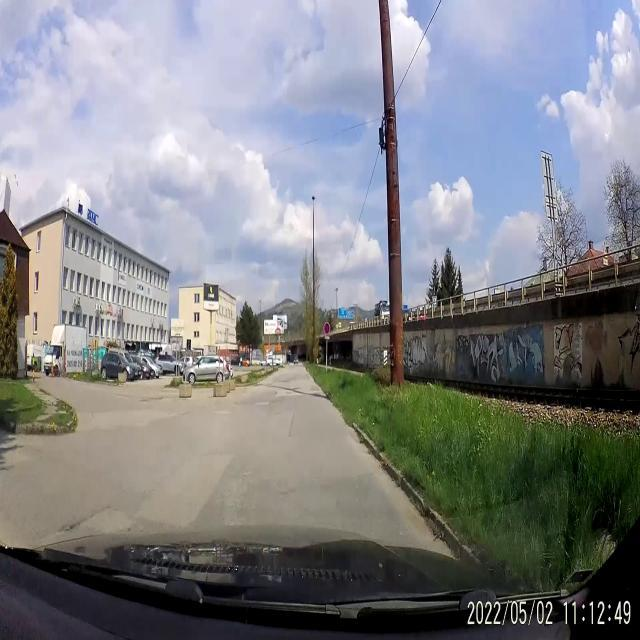Pothole: (52, 520, 84, 539), (180, 408, 193, 416)
